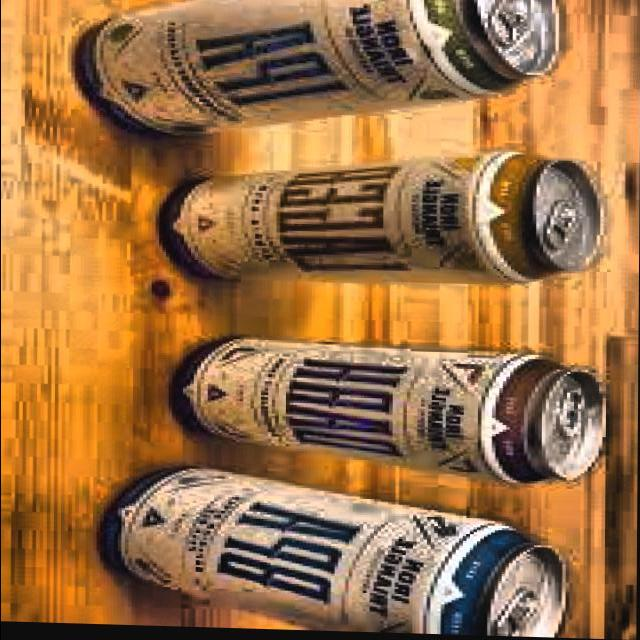Aluminum Can: (92, 462, 574, 638), (70, 0, 565, 154), (165, 330, 614, 490), (149, 143, 607, 296)
